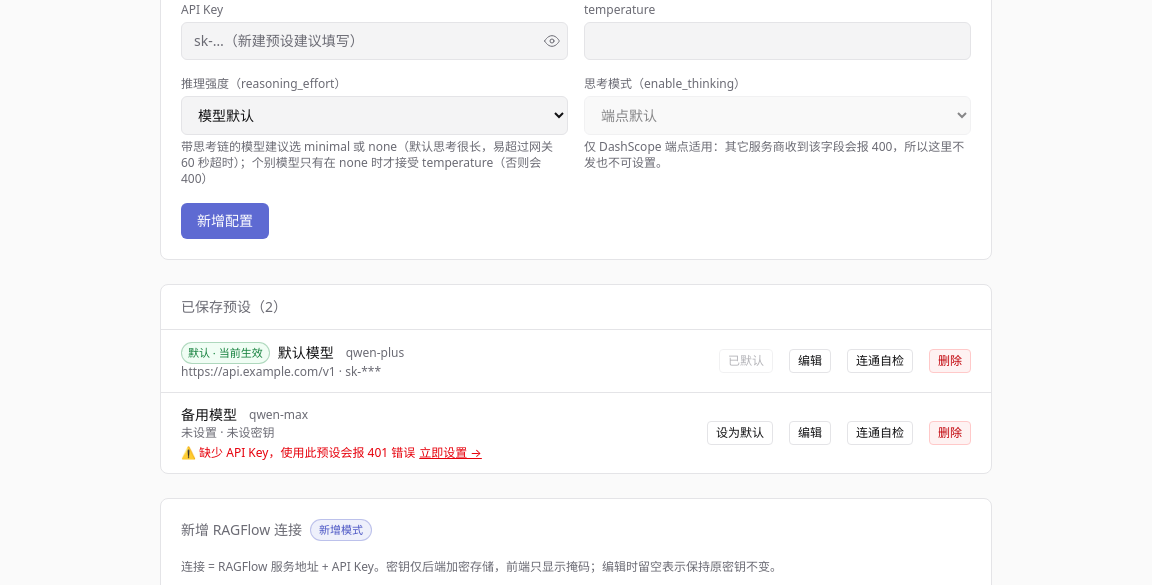
Test: ConfigPage › 点编辑回填表单，保存修改走 PUT
(page scrolled)
Check: the text "默认模型" is shown, box [278,343,334,362]
Click the button "编辑" in the row of "qwen-plus" at (810, 361), box [789,349,831,373]
(page scrolled)
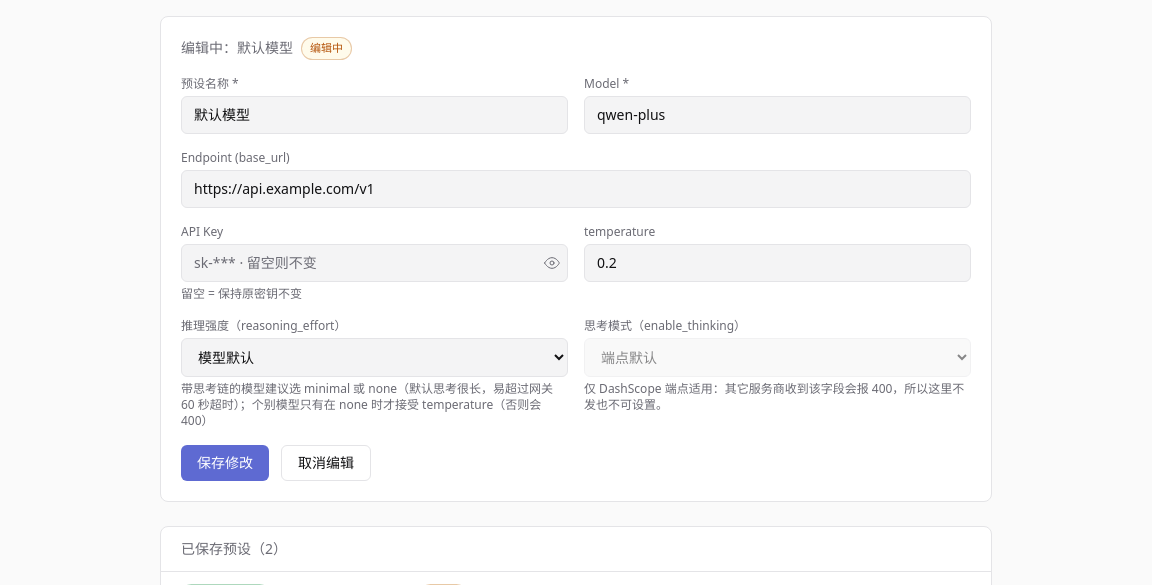
Check: the heading "编辑中：默认模型" is shown, box [181,38,293,58]
Check: the field named "预设名称" holds "默认模型", box [181,96,568,134]
Replace the text in the field named "Model" with "qwen-plus-2025" at (778, 114), box [584,96,971,134]
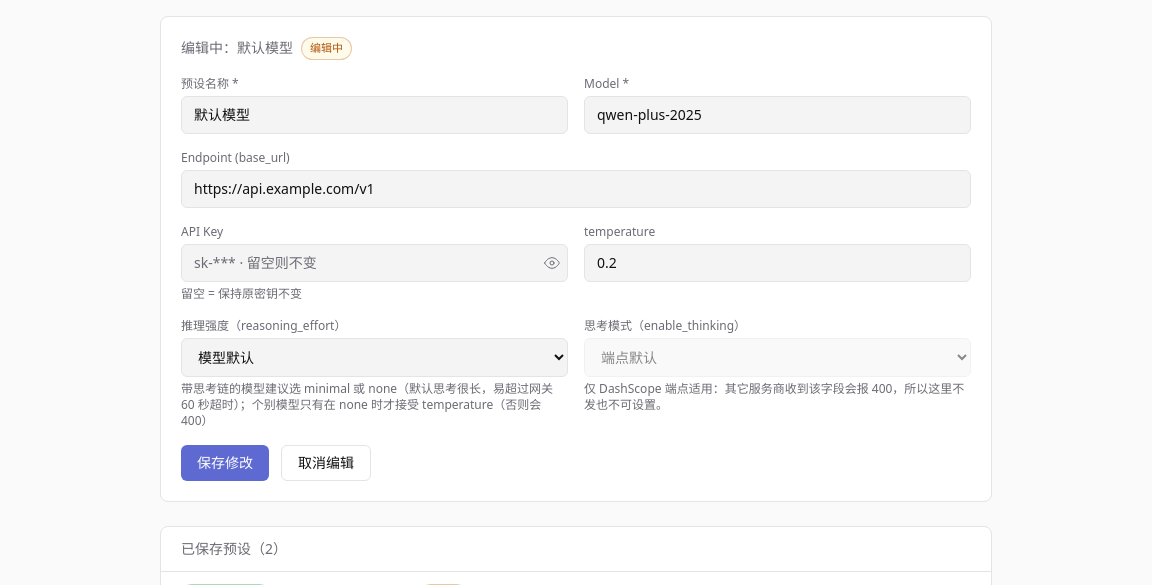
Click the button "保存修改" at (225, 462), box [181,444,269,480]
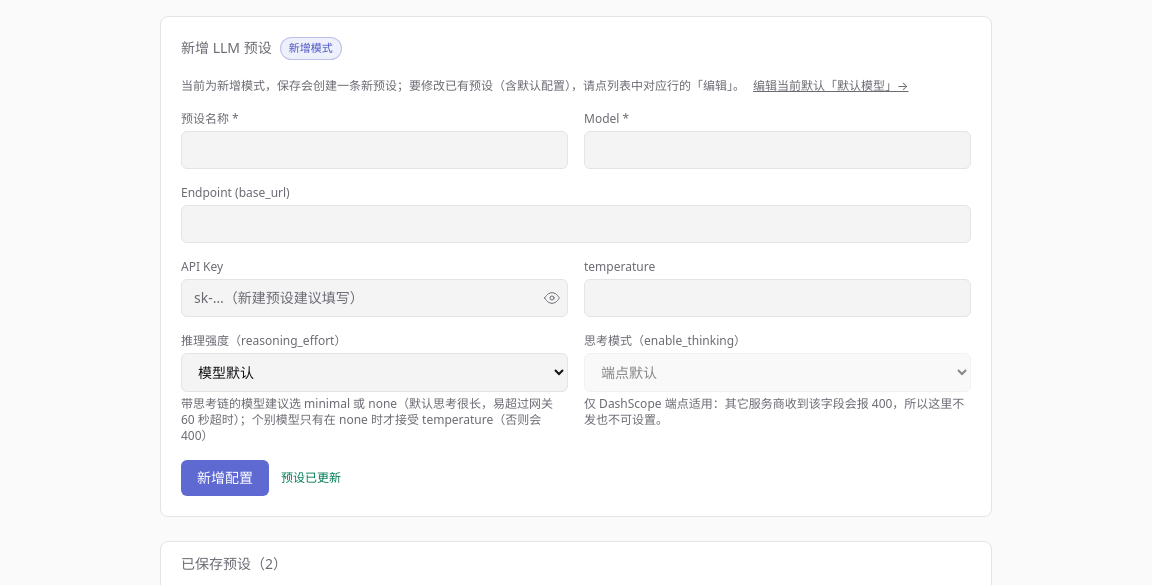
Check: the text "预设已更新" is shown, box [281,470,341,486]
Check: the button "新增配置" is shown, box [181,460,269,496]
